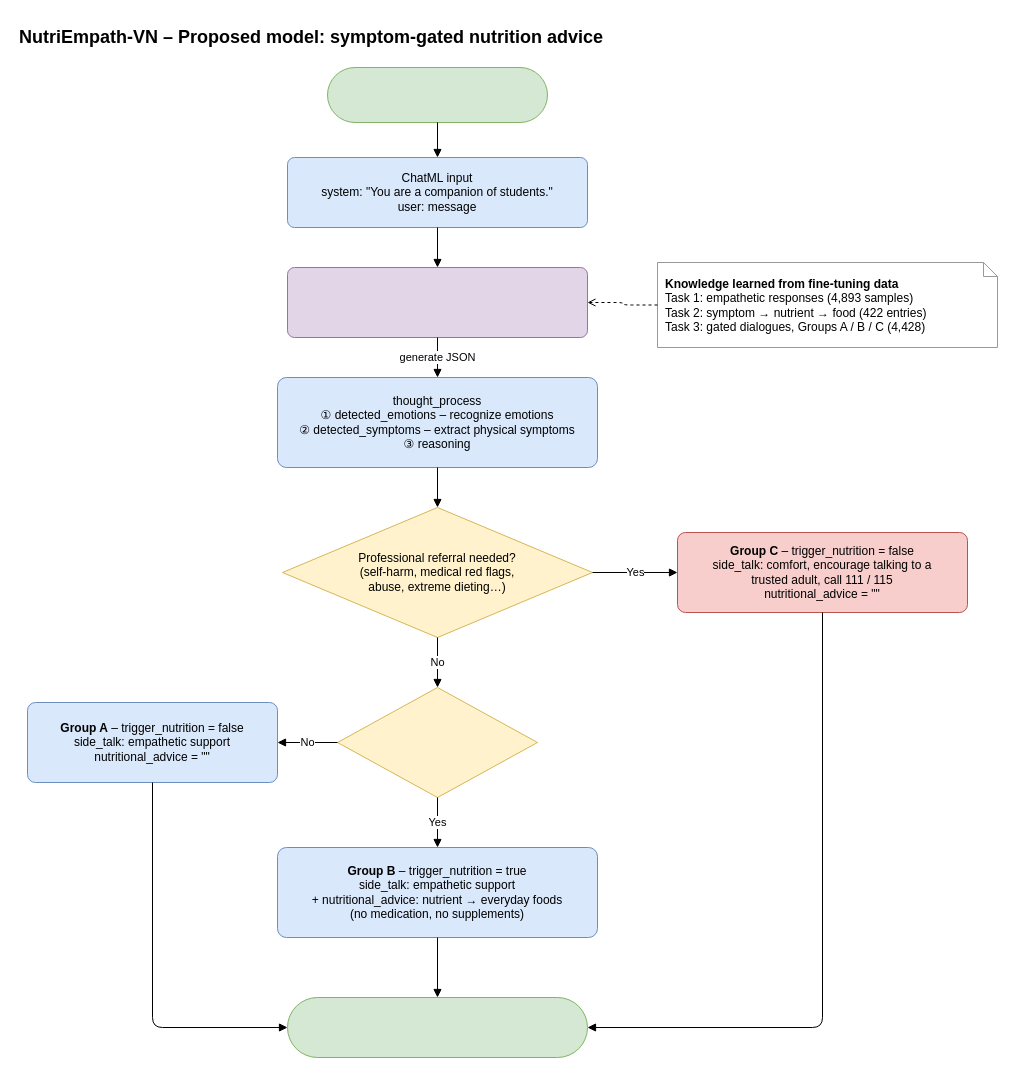
This 1015x1075 diagram has some shape labels left out. Each missing label, with the centre of its shape:
"Concrete physical symptom reported?" belongs at point 437,742.
"JSON output {thought_process, side_talk, nutritional_advice}" belongs at point 437,1027.
"NutriEmpath-VN Qwen2.5-7B-Instruct + LoRA (r = 16, epoch 3)" belongs at point 437,302.
"Student message (Vietnamese, aged 13–18)" belongs at point 437,94.
